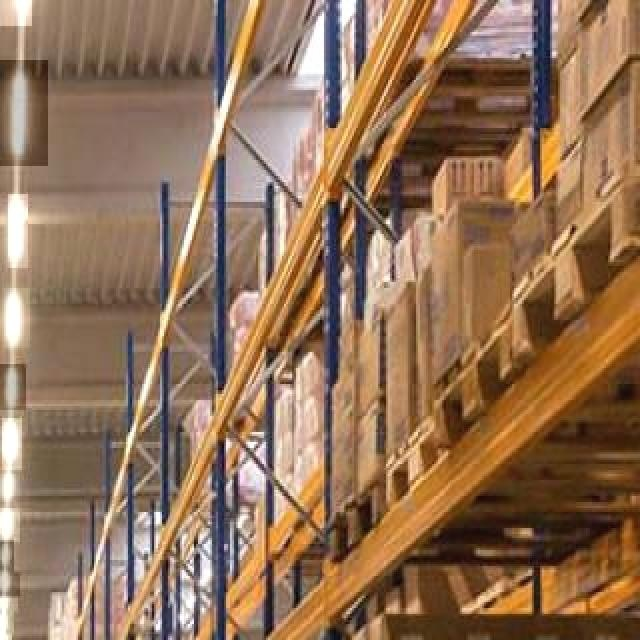fluorescent tube: (0, 54, 42, 158), (0, 185, 27, 265), (0, 280, 30, 344), (2, 364, 27, 411), (0, 0, 40, 28), (0, 418, 24, 464), (0, 460, 18, 496), (0, 502, 14, 540), (0, 538, 14, 564), (0, 570, 12, 594)
